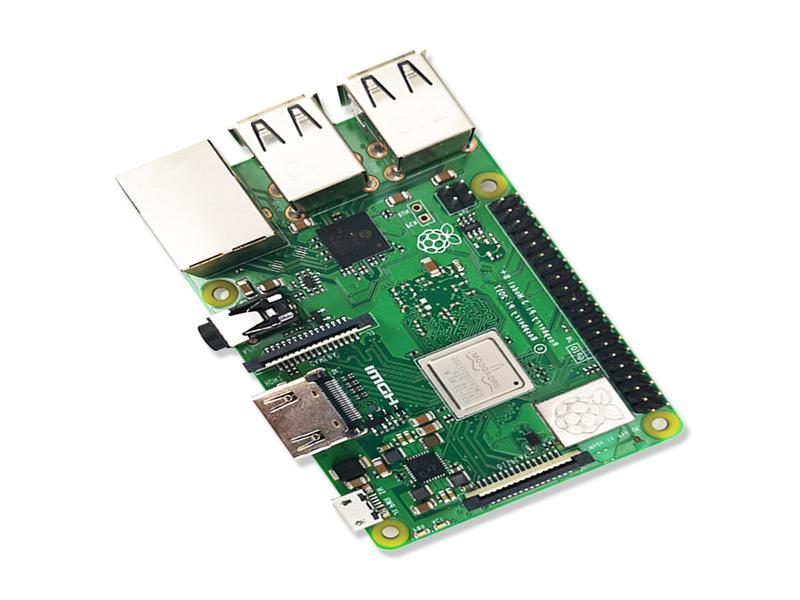Raspberry_Pi_3: (96, 40, 695, 556)
